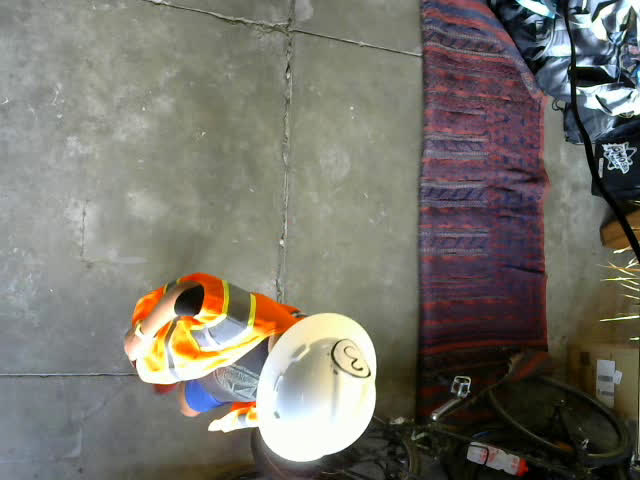three: (332, 338, 373, 380)
